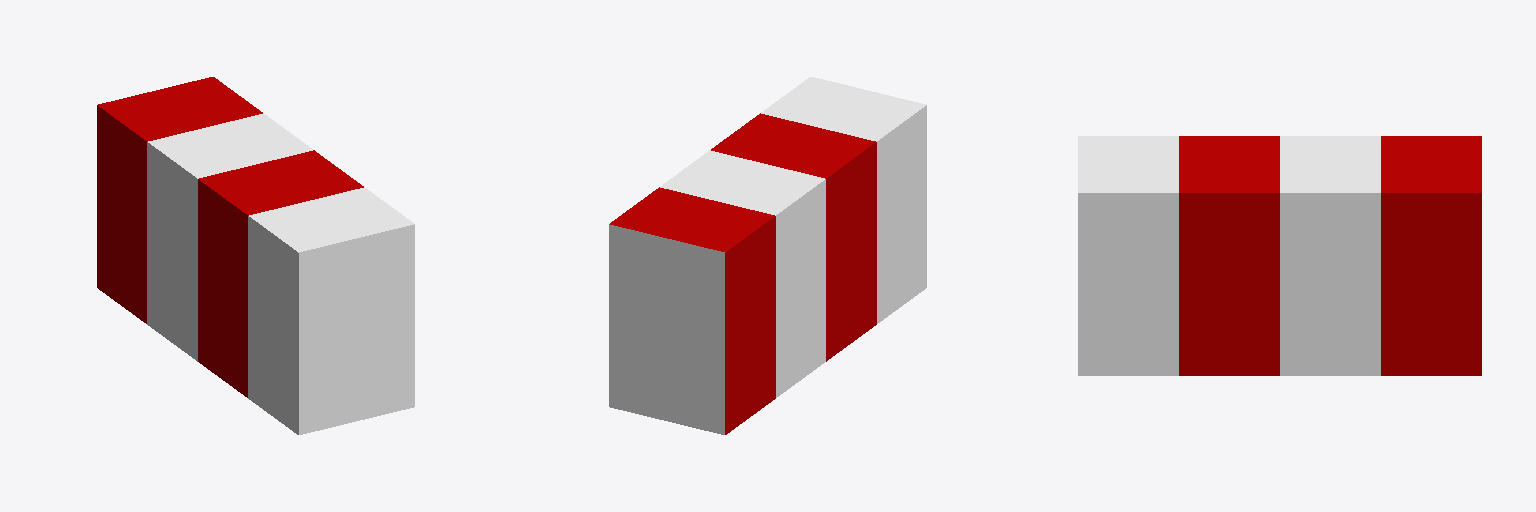
File: fence.obj
The picture shows the model from 3 angles: view 1: azimuth 30°, elevation 25°; view 2: azimuth 150°, elevation 25°; view 3: azimuth 270°, elevation 25°; orthographic projection.
Parts seen in each view (by area): view 1: Cube; view 2: Cube; view 3: Cube.
Part boxes in pixels (left/top/right/bottom): Cube: left=97, top=77, right=414, bottom=434; Cube: left=609, top=77, right=926, bottom=434; Cube: left=1078, top=136, right=1481, bottom=375.
Bounding box in the file's own units: 0.2 × 0.3 × 0.6.